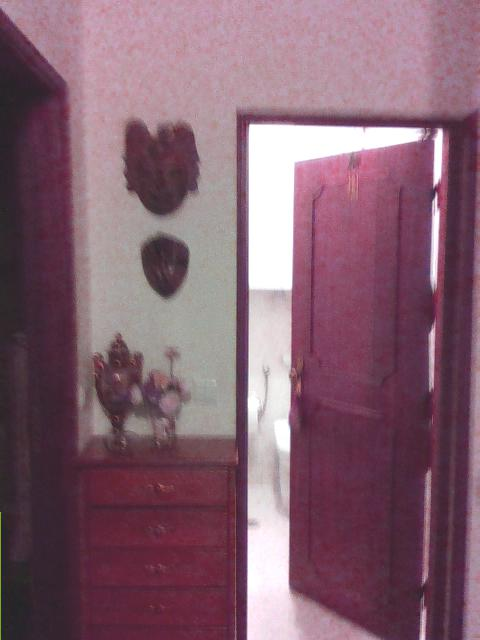semi_door: (236, 111, 465, 639)
